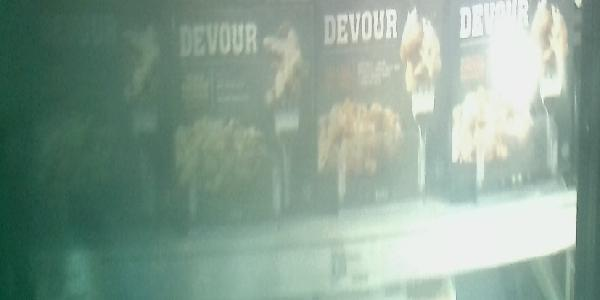pizza1: (169, 3, 309, 236), (310, 2, 445, 208), (446, 3, 577, 197)
